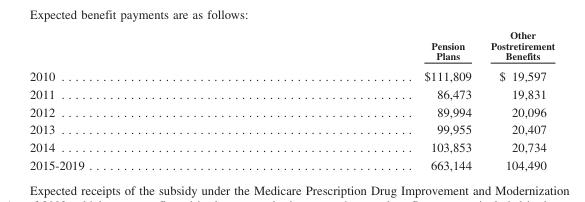table: (29, 29, 554, 171)
table column: (253, 29, 480, 171), (29, 29, 253, 171), (480, 29, 554, 171)
table column header: (29, 29, 554, 64)
table row: (29, 29, 554, 64), (29, 64, 554, 84), (29, 84, 554, 102), (29, 102, 554, 120), (29, 137, 554, 155), (29, 120, 554, 137), (29, 155, 554, 171)
